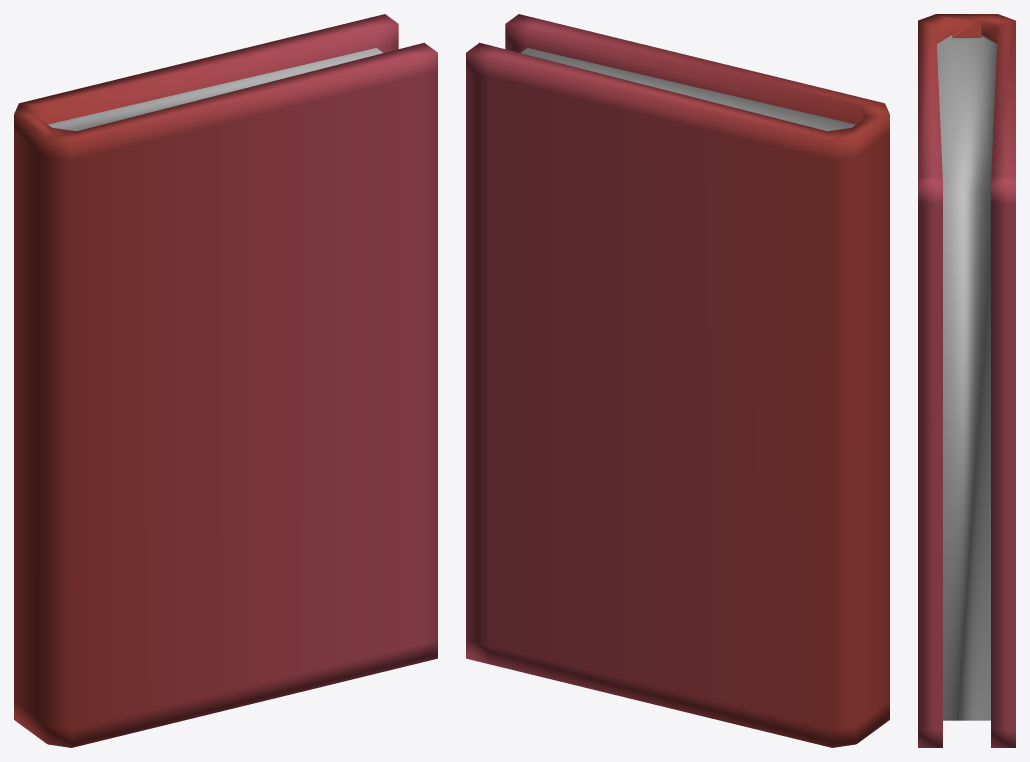
File: Book1.fbx
3 renders of one model, left to right at view 1: azimuth 30°, elevation 25°; view 2: azimuth 150°, elevation 25°; view 3: azimuth 270°, elevation 25°, orthographic. The views are drawn at different scales.
Parts seen in each view (by area): view 1: Plane.156; view 2: Plane.156; view 3: Plane.156.
Part boxes in pixels (x1,y1,x2,y2): Plane.156: [14, 14, 437, 747]; Plane.156: [466, 14, 889, 747]; Plane.156: [918, 14, 1015, 747].
Size of the model in its own units: 37.48 by 57.01 by 8.99.
